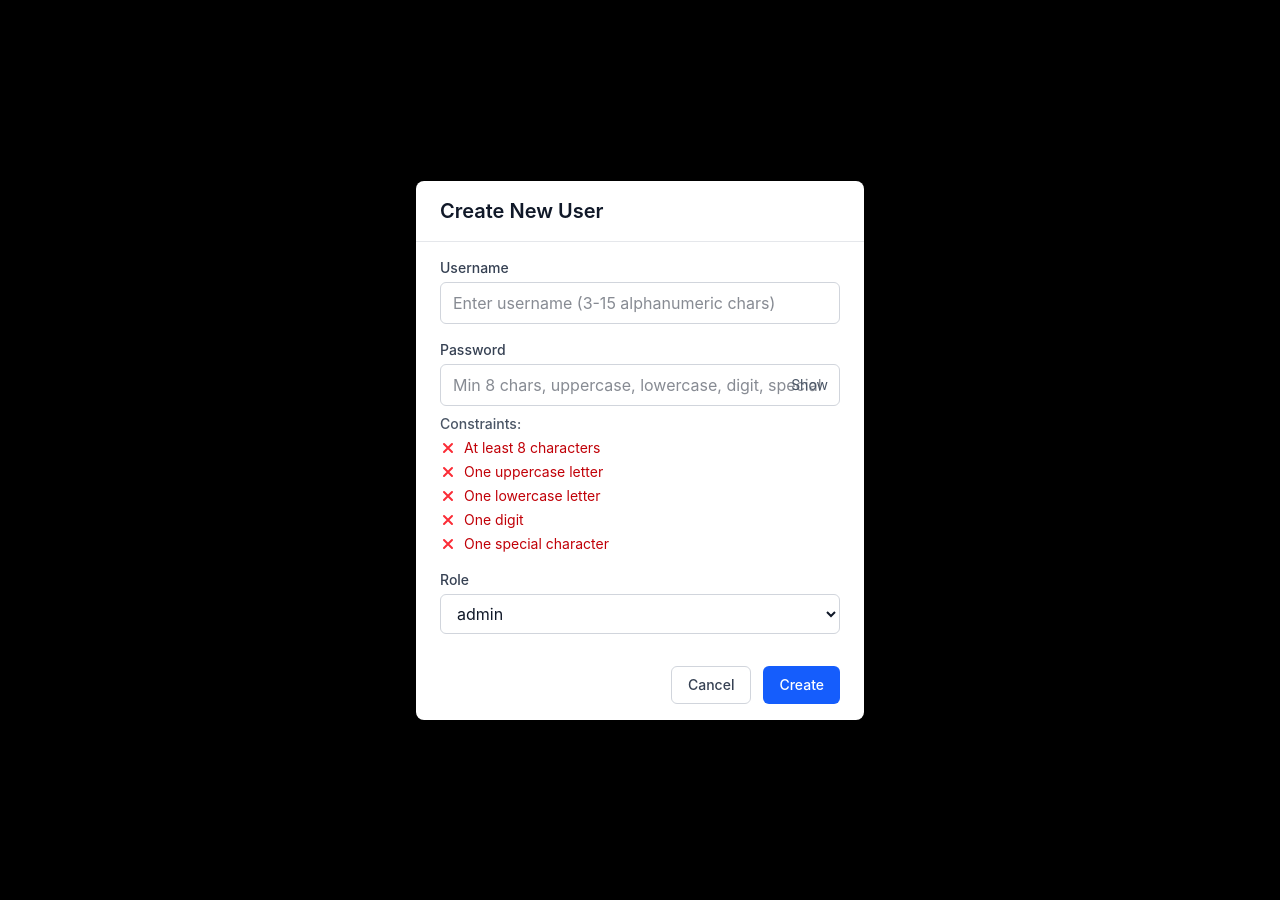
Test: CreateUserModal › Form Validation › should show error for empty username
This screenshot has width=1280, height=900.
Click the button "Create".
click(802, 684)  # box 763,666 -> 840,704
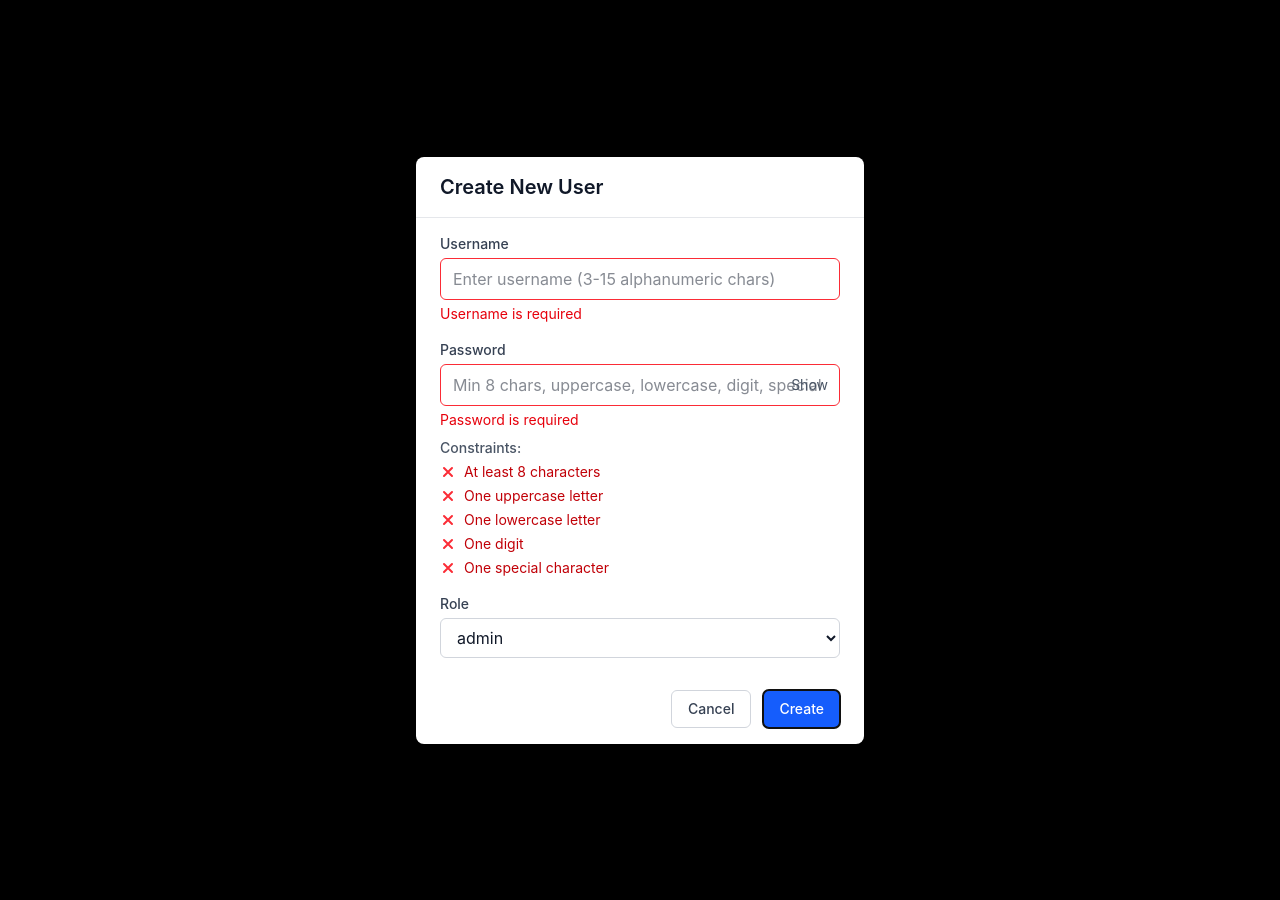
Expected: the text "Username is required" is shown, 440,304 -> 582,322
